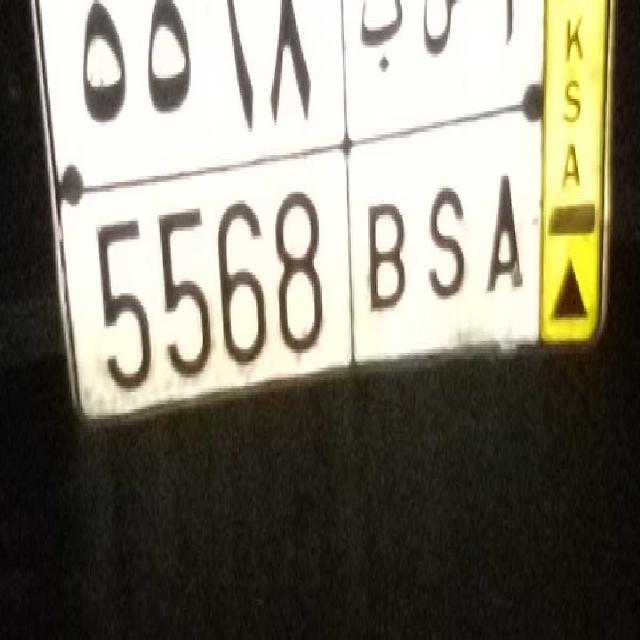license_plate: (66, 157, 532, 423)
